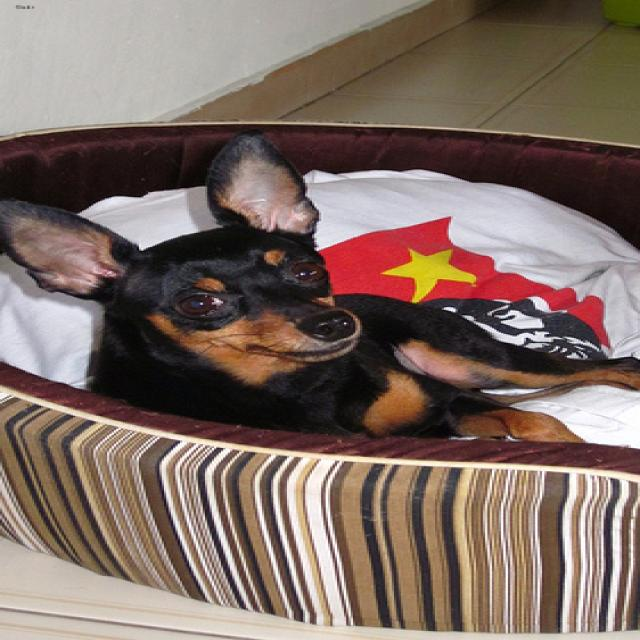dog-miniature_pinscher: (2, 116, 635, 451)
